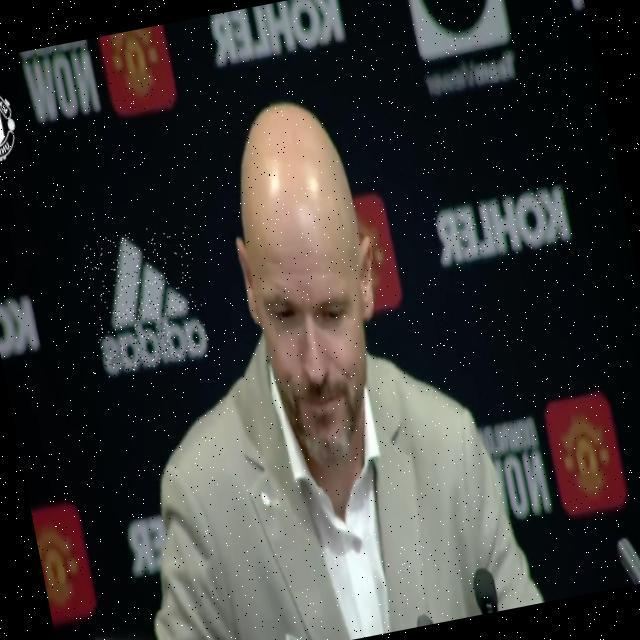Adidas: (79, 221, 212, 378)
Kohler: (430, 181, 574, 269)
TeamViewer: (404, 0, 520, 97)
